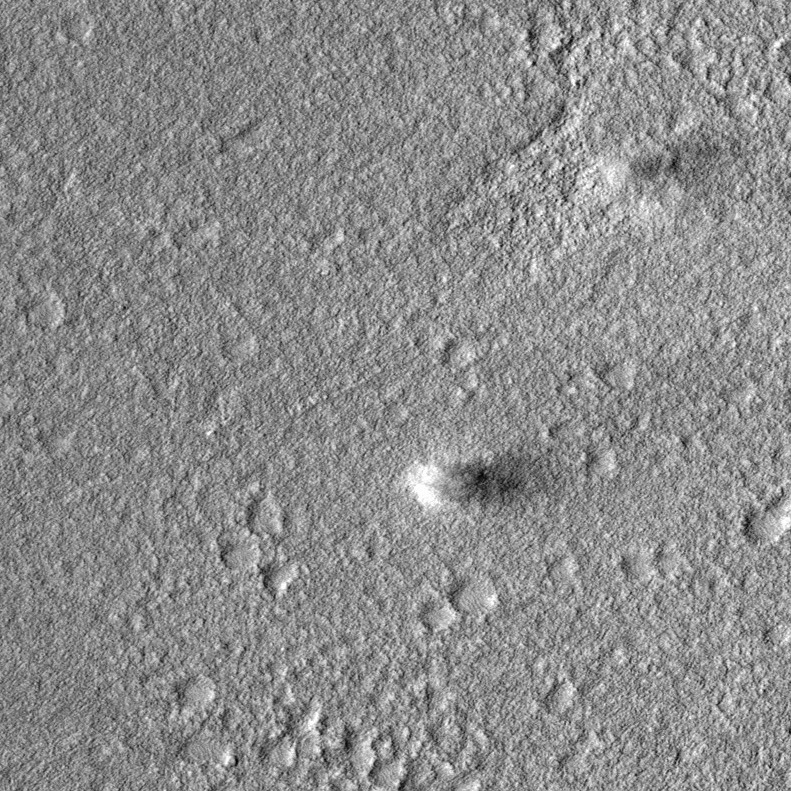dust_devil: (396, 450, 538, 519), (592, 125, 722, 197)
